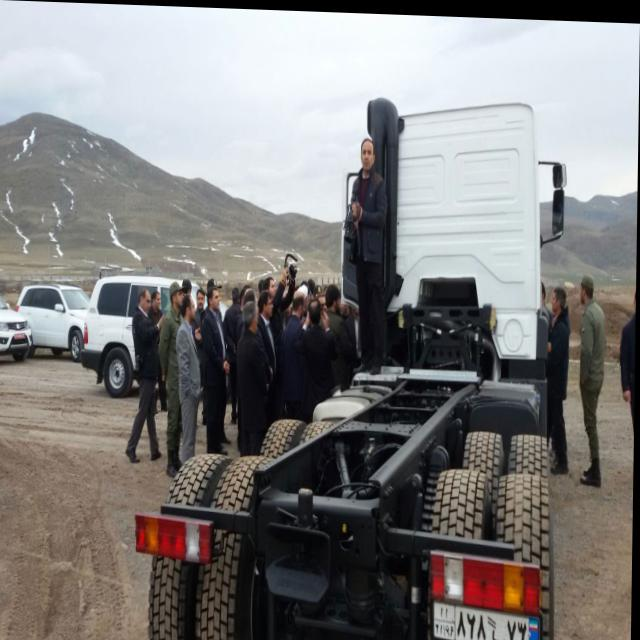licence: (436, 598, 544, 640)
